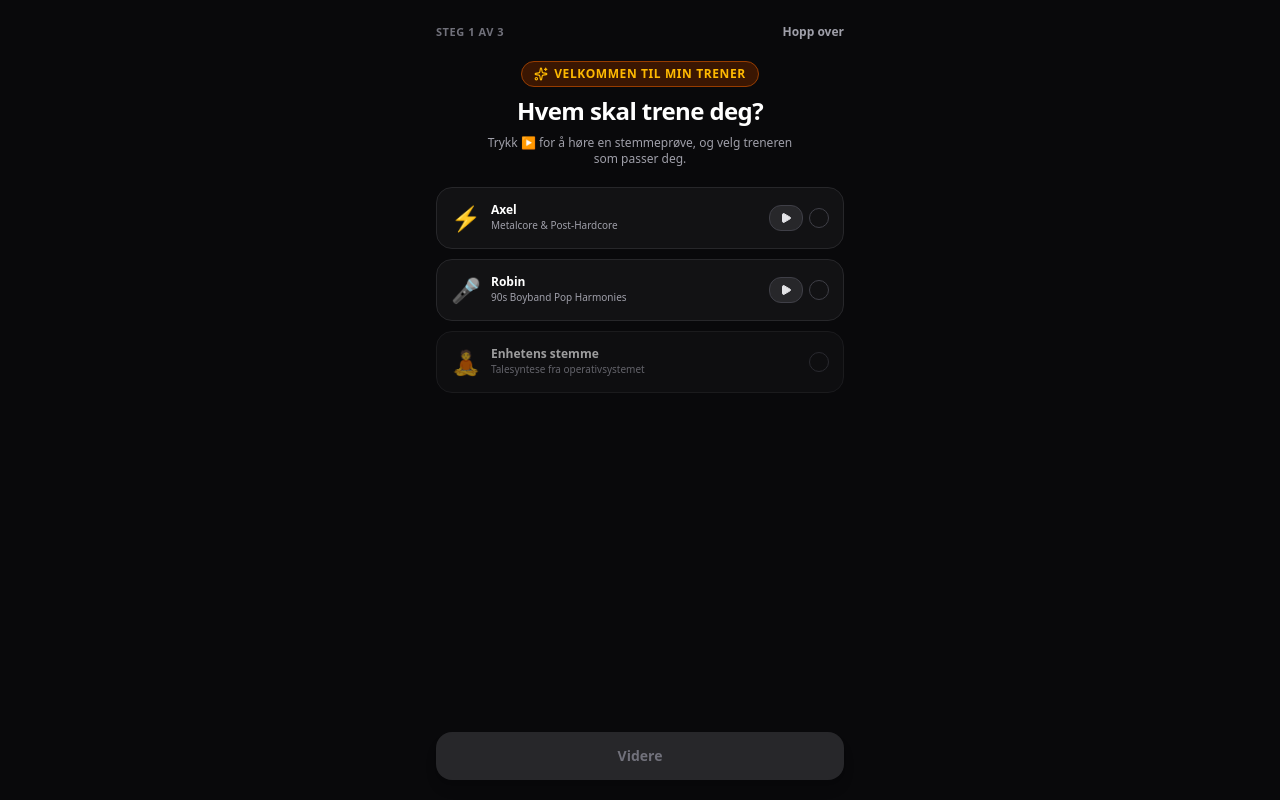
Test: OnboardingFlow › valg av Axel + Videre setter aktiv persona, preloader og teller telemetri
This screenshot has width=1280, height=800.
Click the button with aria-label "Velg Axel". click: (606, 218)
box: [451,202,761,234]
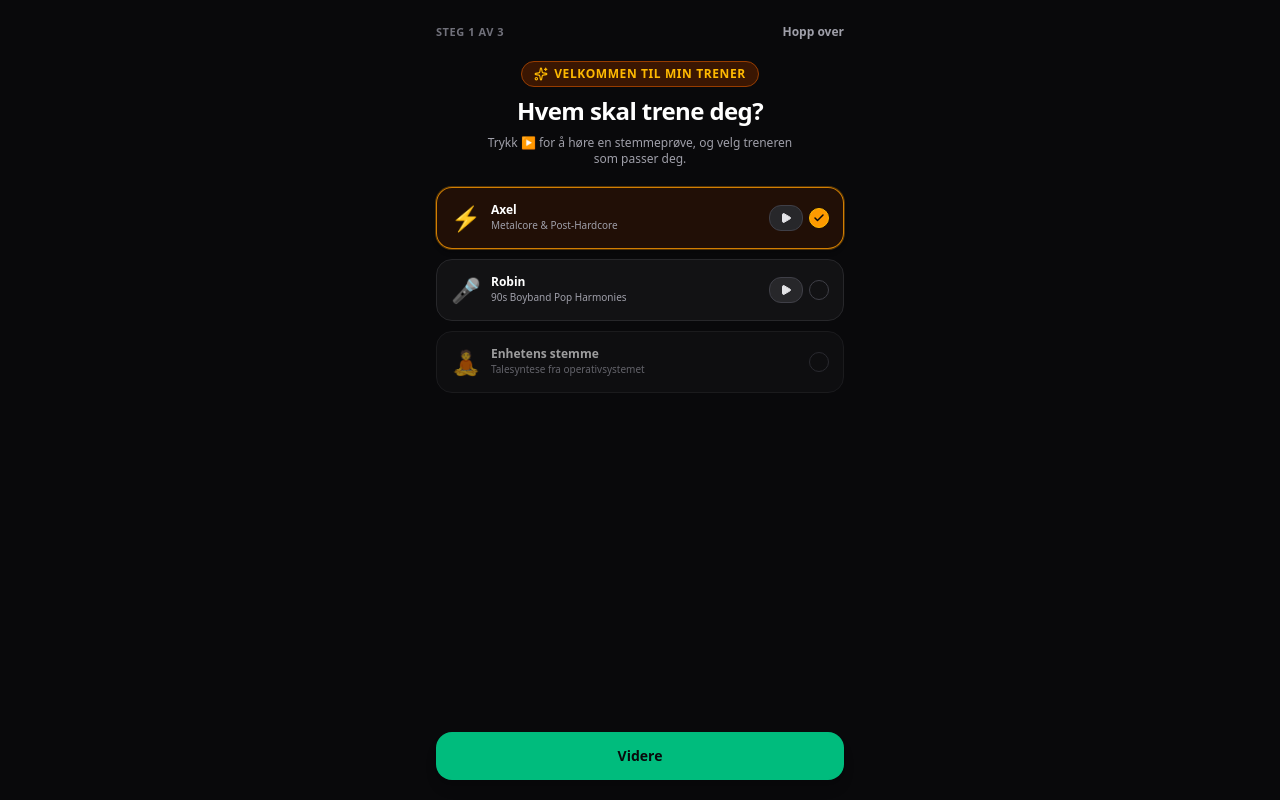
Click the button "Videre". click: (640, 756)
box: [436,732,844,780]
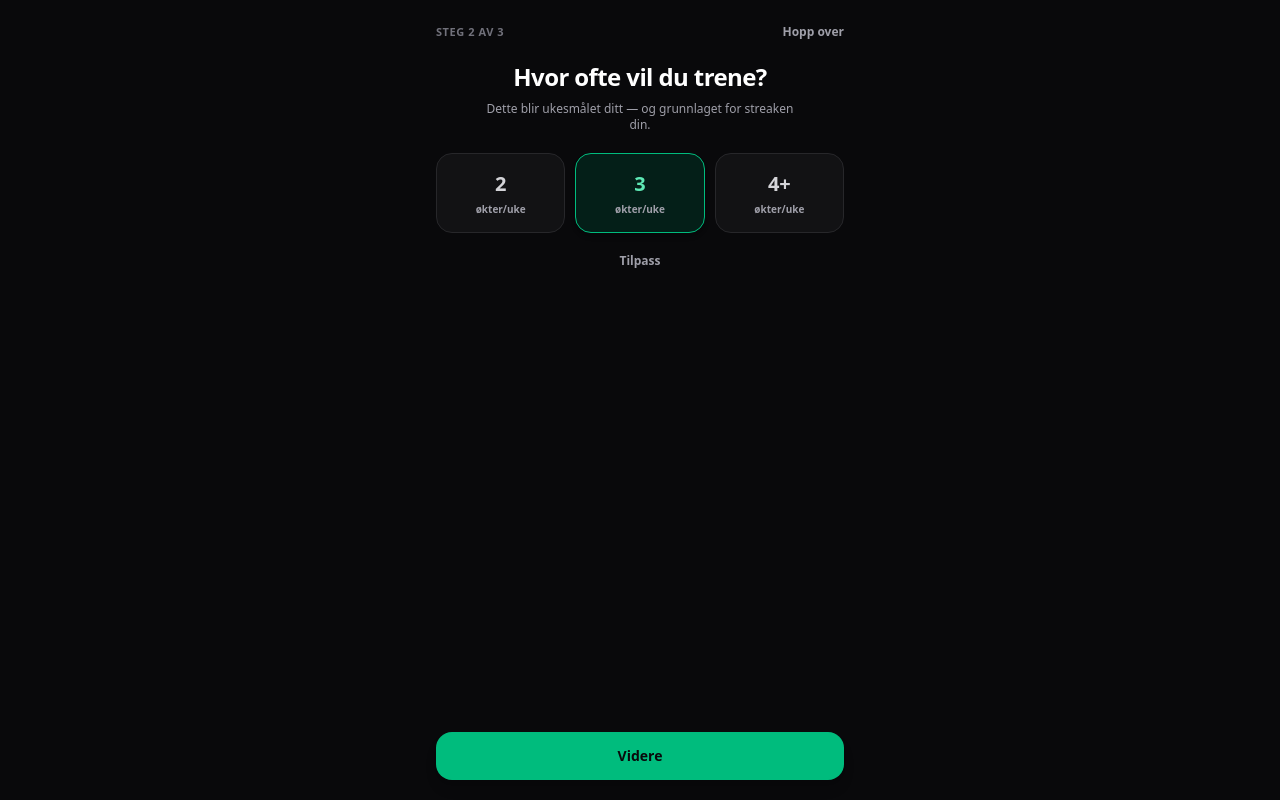
Expected: the heading "Hvor ofte vil du trene?" is shown, [513,60,767,92]
